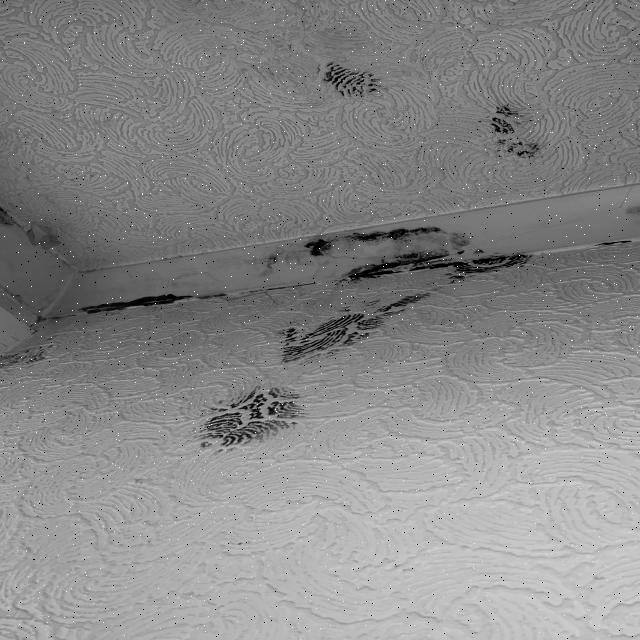stain marks: (0, 183, 532, 368), (186, 383, 332, 456), (295, 48, 411, 106), (472, 104, 556, 176)
